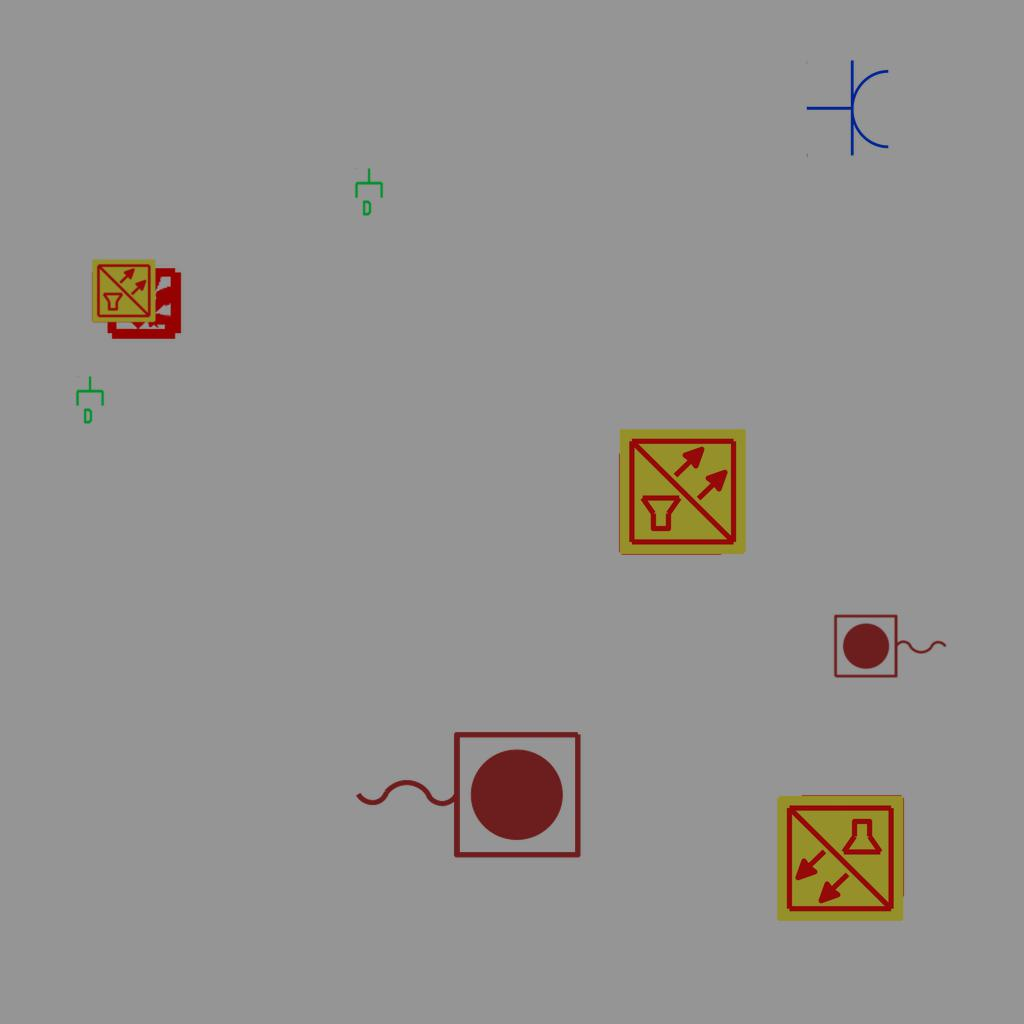Datenanschluss_einfach: (74, 375, 108, 425), (353, 167, 387, 217)
OKW_Multisensormelder_(Kombination_optischer_Rauch-Kahlenmonoxid_Waerme-Melder): (774, 792, 906, 924), (617, 426, 749, 558), (91, 258, 157, 324)
OT_Multisensormelder_(Kombination_RMO_WMD): (90, 247, 203, 360)
Schukosteckdose_einfach: (806, 59, 893, 159)
Zugtaster: (345, 721, 589, 865), (830, 611, 952, 683)
